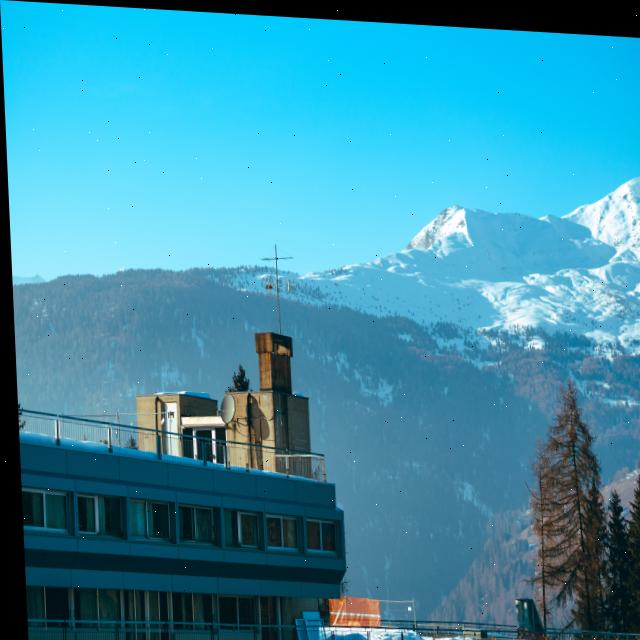building: (14, 316, 346, 640)
